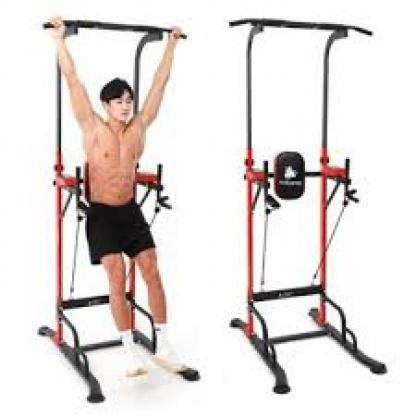chinning dipping: (39, 13, 202, 404), (227, 15, 389, 392)
